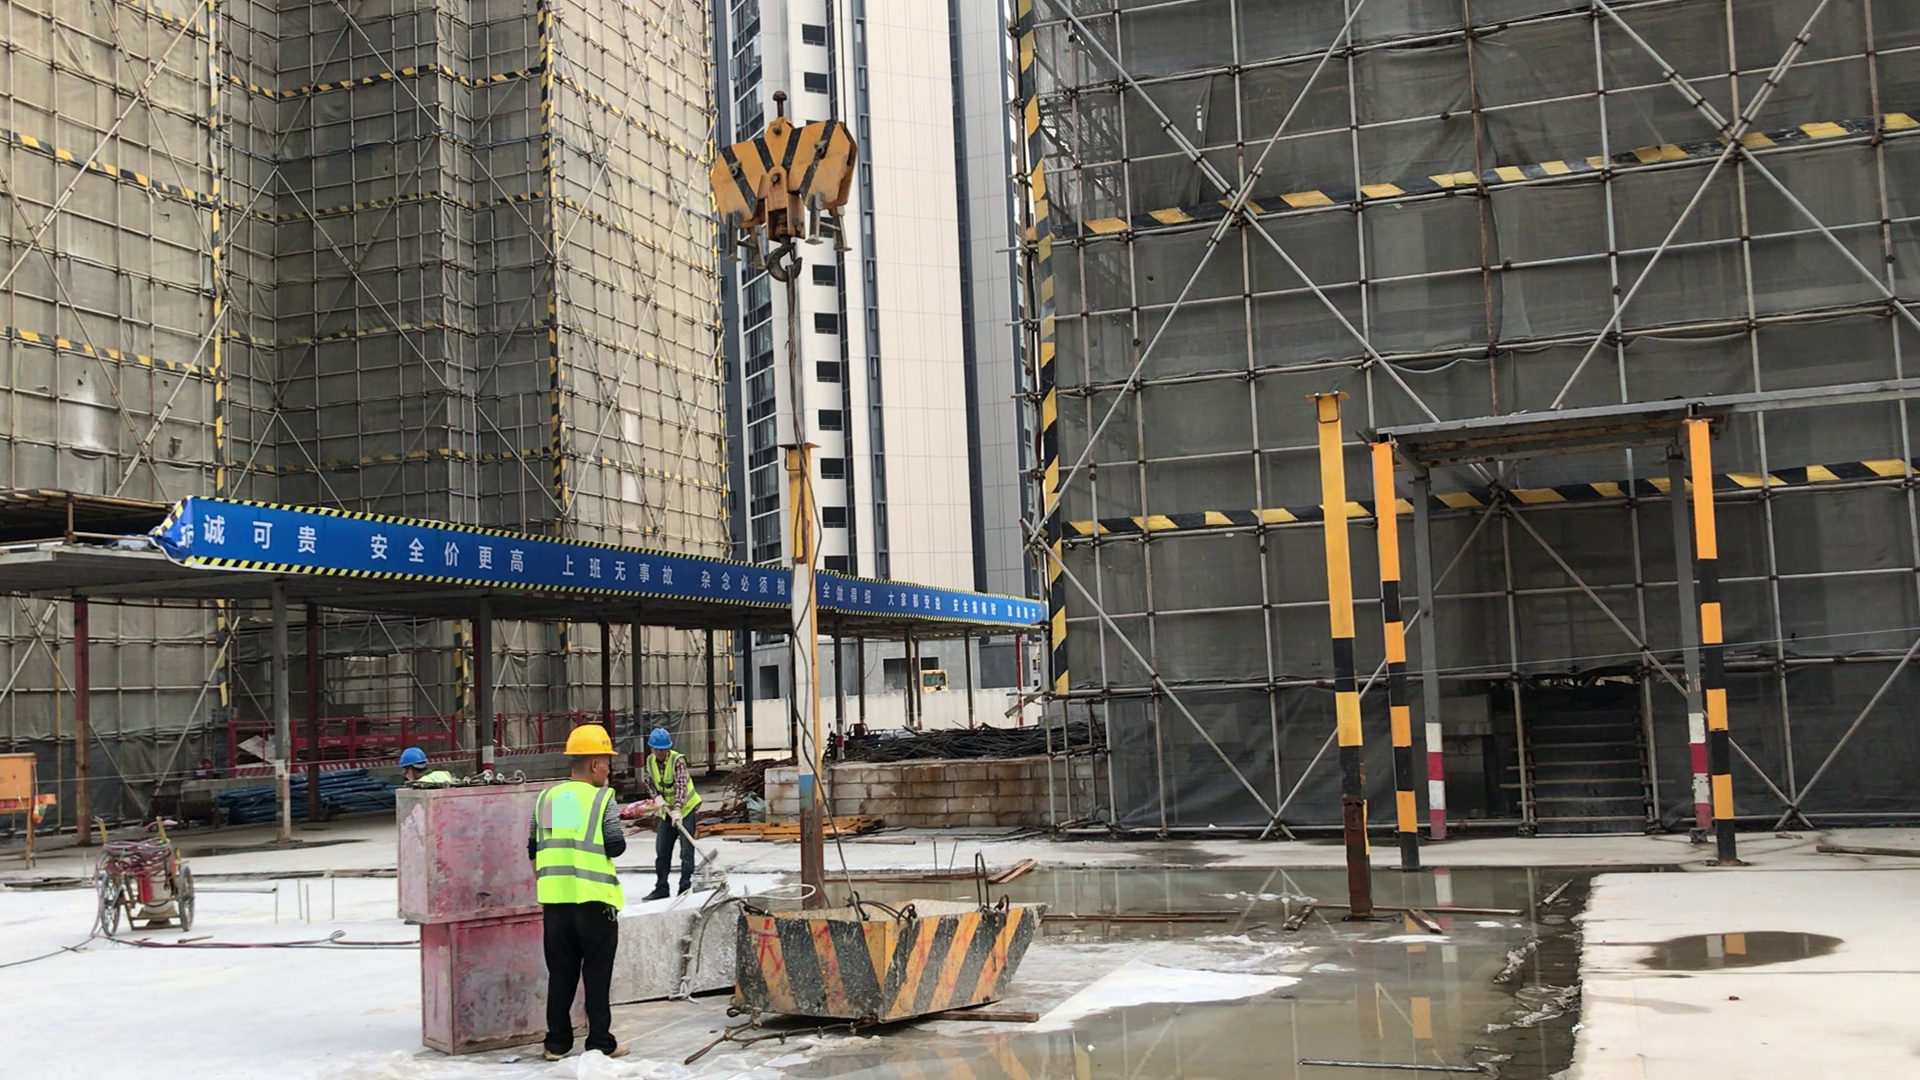fence: (232, 715, 566, 776)
handcart: (89, 814, 197, 942)
helmet: (565, 722, 619, 757), (399, 744, 427, 766), (648, 728, 671, 749)
hook: (704, 89, 862, 283)
hopper: (738, 901, 1047, 1018)
person: (528, 723, 629, 1061), (644, 726, 698, 904)
slogan: (194, 495, 1042, 629)
vest: (537, 781, 619, 907), (648, 757, 702, 816)
